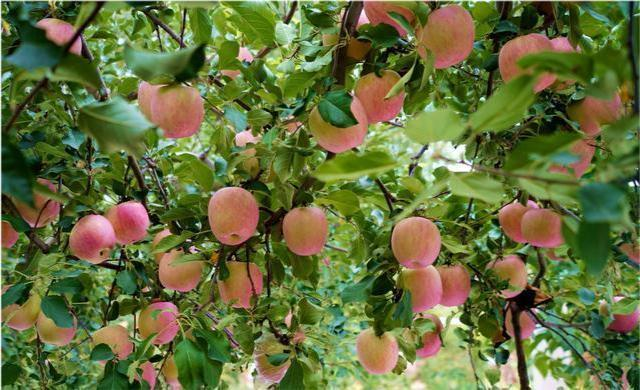apple: (138, 78, 204, 138), (415, 6, 475, 69), (499, 34, 564, 85), (308, 98, 367, 152), (351, 69, 408, 120), (208, 185, 258, 242), (390, 216, 441, 270), (214, 257, 264, 310), (34, 294, 78, 347), (137, 296, 185, 343), (157, 245, 205, 292), (282, 205, 327, 255), (69, 215, 114, 264), (399, 262, 443, 311), (355, 327, 398, 375), (104, 199, 149, 243), (16, 179, 57, 225), (519, 209, 562, 249), (485, 253, 528, 293), (3, 284, 40, 330), (435, 262, 473, 306), (36, 309, 80, 345), (89, 323, 132, 359)
